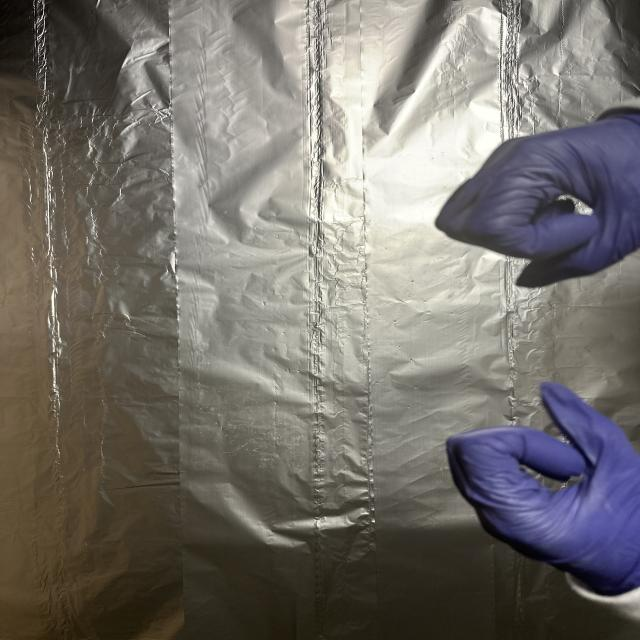gloves_contaminated: (446, 382, 640, 612), (436, 110, 640, 287)
